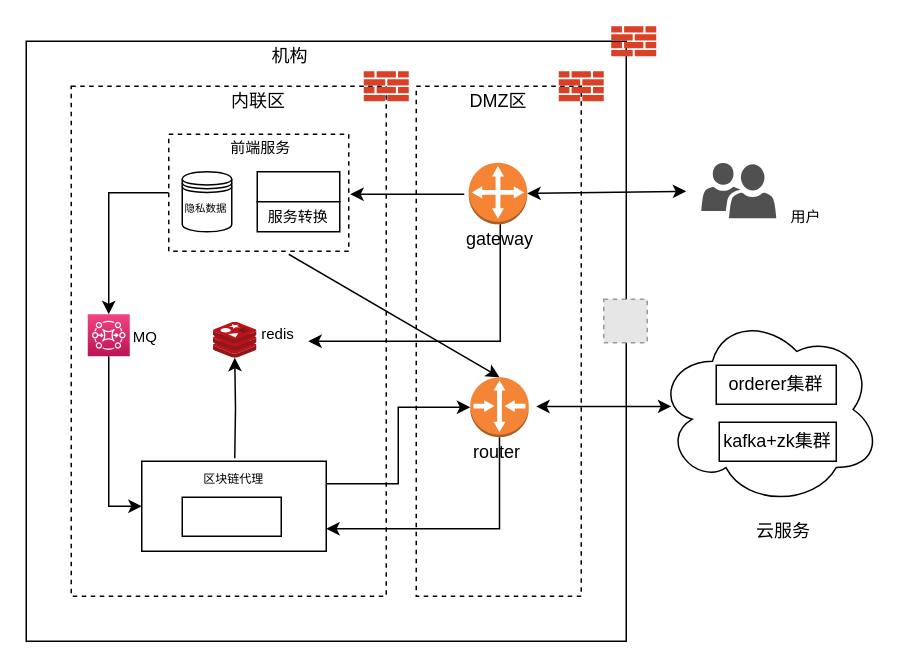
The diagram is 908 pixels wide and 668 high, and some of its shapes have lost their labels. Grey dashed boxes stand in for pictures. The shapes that lost their labels are listed below. From the top down, each one's centre as x and y in pixels, then its label:
At point 298,186: "restful".
At point 231,516: "fabric-sdk".
